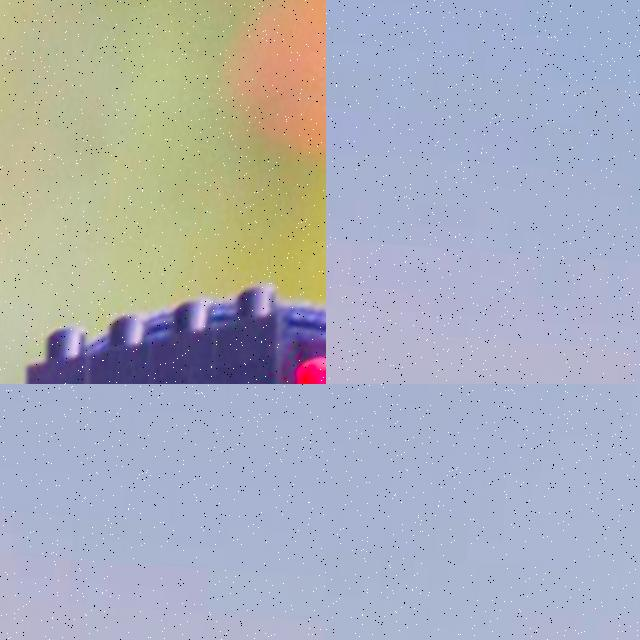drone: (0, 0, 326, 384)
